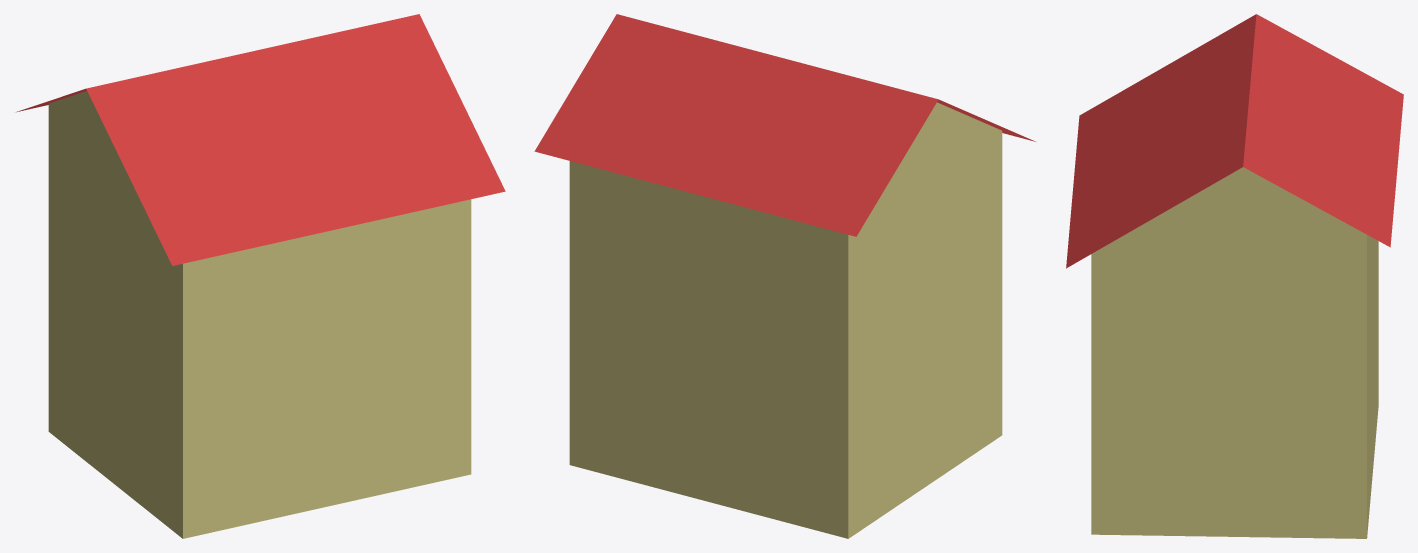
3 renders of one model, left to right at view 1: azimuth 30°, elevation 25°; view 2: azimuth 150°, elevation 25°; view 3: azimuth 270°, elevation 25°, orthographic. The views are drawn at different scales.
Size of the model in its own units: 11.5 by 10.38 by 12.9.
